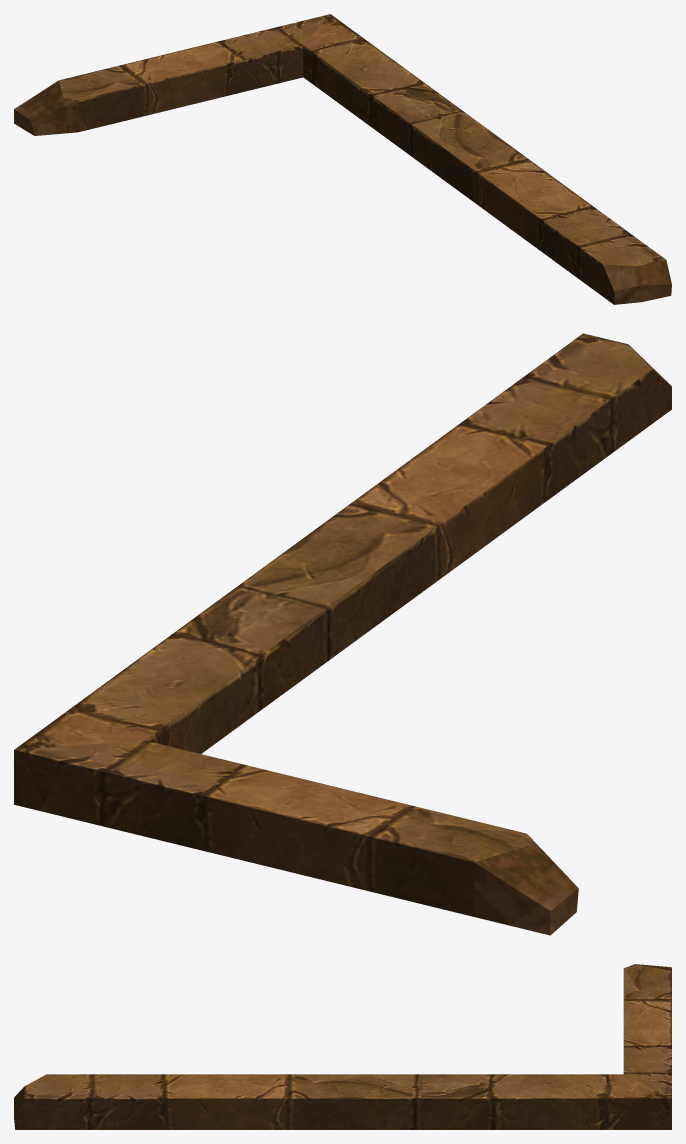
Rendered from Scene_hubian_004.FBX.
3 renders of one model, top to bottom at view 1: azimuth 30°, elevation 25°; view 2: azimuth 150°, elevation 25°; view 3: azimuth 270°, elevation 25°, orthographic. The views are drawn at different scales.
Parts seen in each view (by area): view 1: Scene_hubian_004; view 2: Scene_hubian_004; view 3: Scene_hubian_004.
Boxes of the visible parts, box(x1,y1,x2,y2) form: Scene_hubian_004: box(14, 14, 671, 304); Scene_hubian_004: box(14, 333, 671, 935); Scene_hubian_004: box(14, 964, 671, 1129).
Bounding box in the file's own units: 8.53 × 0.8309 × 15.93.
